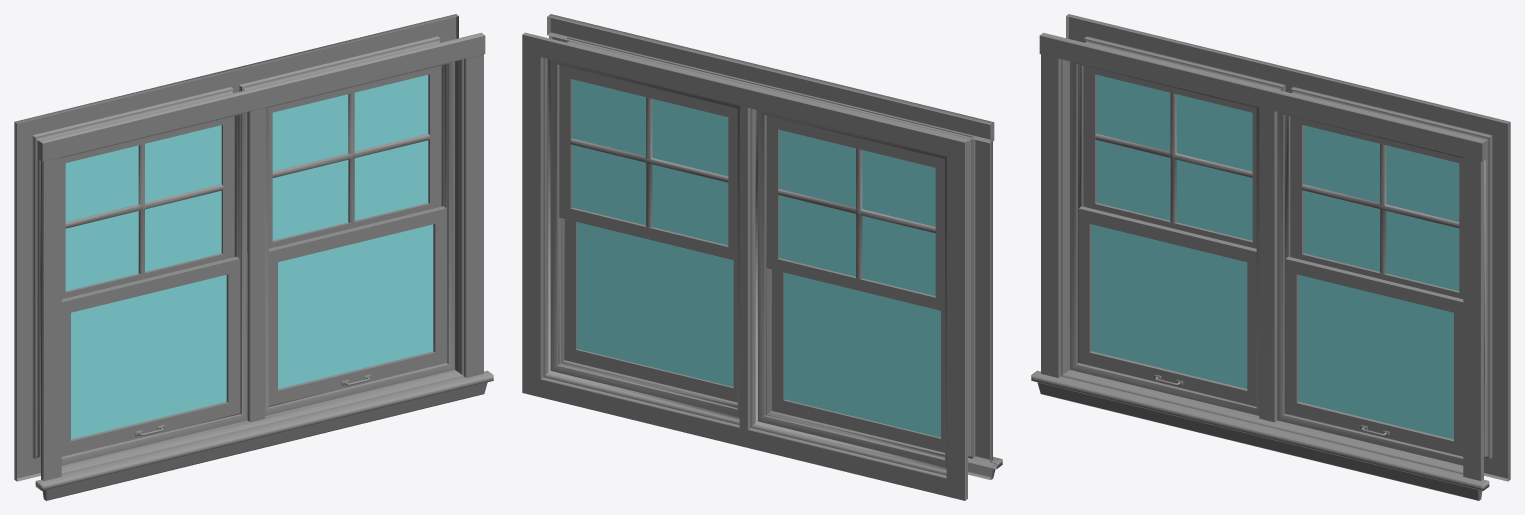
File: Window_double_vinyl.FBX
3 renders of one model, left to right at view 1: azimuth 30°, elevation 25°; view 2: azimuth 150°, elevation 25°; view 3: azimuth 330°, elevation 25°, orthographic.
Visible parts, largest first — view 1: Window_double_vinyl, Windowglass_D, Windowglass_B, Windowglass_C, Windowglass_A, Window_double_vinyl_openable_A, Window_double_vinyl_openable_B; view 2: Window_double_vinyl, Windowglass_B, Windowglass_D, Windowglass_A, Windowglass_C, Window_double_vinyl_openable_B, Window_double_vinyl_openable_A; view 3: Window_double_vinyl, Windowglass_B, Windowglass_D, Windowglass_A, Windowglass_C, Window_double_vinyl_openable_A, Window_double_vinyl_openable_B.
Part boxes in pixels (x1,y1,x2,y2): Window_double_vinyl: [14, 14, 493, 500]; Windowglass_D: [278, 224, 433, 388]; Windowglass_B: [71, 275, 226, 439]; Windowglass_C: [272, 75, 428, 240]; Windowglass_A: [65, 125, 221, 290]; Window_double_vinyl_openable_A: [61, 256, 239, 456]; Window_double_vinyl_openable_B: [268, 206, 446, 405]; Window_double_vinyl: [522, 14, 1002, 500]; Windowglass_B: [784, 272, 940, 437]; Windowglass_D: [577, 222, 733, 386]; Windowglass_A: [779, 130, 935, 295]; Windowglass_C: [572, 79, 728, 245]; Window_double_vinyl_openable_B: [564, 219, 737, 402]; Window_double_vinyl_openable_A: [772, 269, 944, 452]; Window_double_vinyl: [1031, 14, 1510, 500]; Windowglass_B: [1091, 224, 1247, 388]; Windowglass_D: [1298, 275, 1453, 439]; Windowglass_A: [1096, 75, 1252, 240]; Windowglass_C: [1303, 125, 1459, 290]; Window_double_vinyl_openable_A: [1078, 206, 1256, 406]; Window_double_vinyl_openable_B: [1285, 256, 1463, 456].
Bounding box in the file's own units: 216 × 163 × 27.46.
